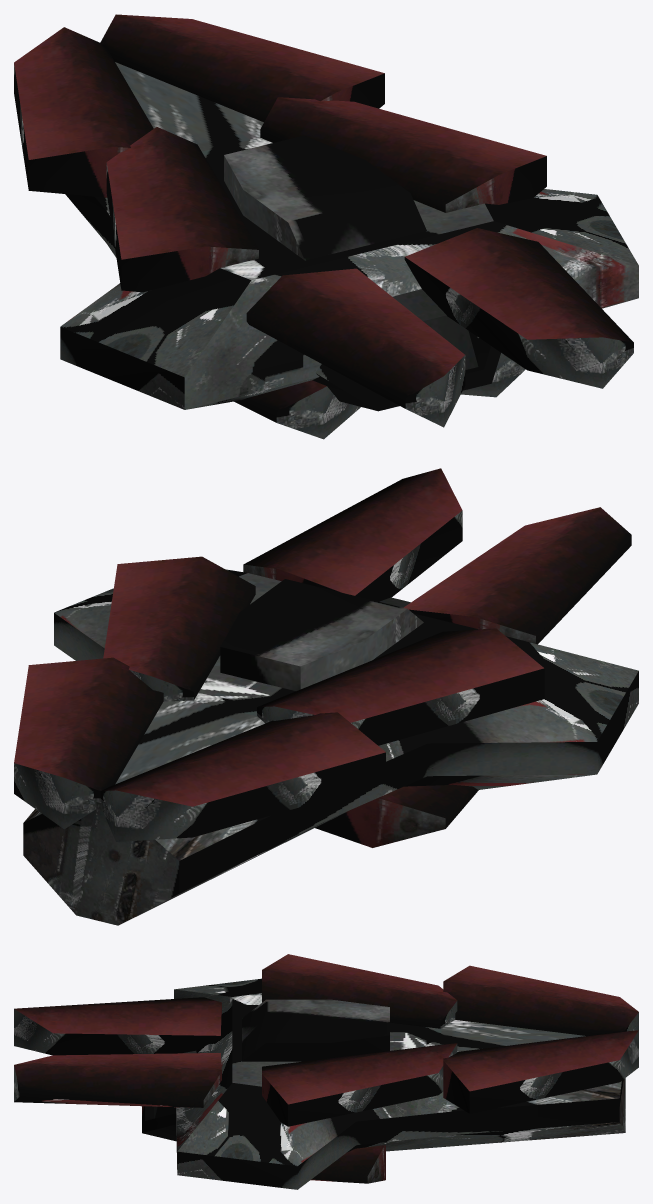
Rendered from Nulla.fbx.
The picture shows the model from 3 angles, top to bottom: view 1: azimuth 30°, elevation 25°; view 2: azimuth 150°, elevation 25°; view 3: azimuth 270°, elevation 25°; orthographic projection. The views are drawn at different scales.
Visible parts, largest first — view 1: Nulla; view 2: Nulla; view 3: Nulla.
Part boxes in pixels (x1=…): Nulla: x1=14, y1=14, x2=638, y2=439; Nulla: x1=14, y1=468, x2=638, y2=925; Nulla: x1=14, y1=954, x2=638, y2=1189.
Bounding box in the file's own units: 40.27 × 11.87 × 55.77.
Materials: 1 (1 with a texture image).
